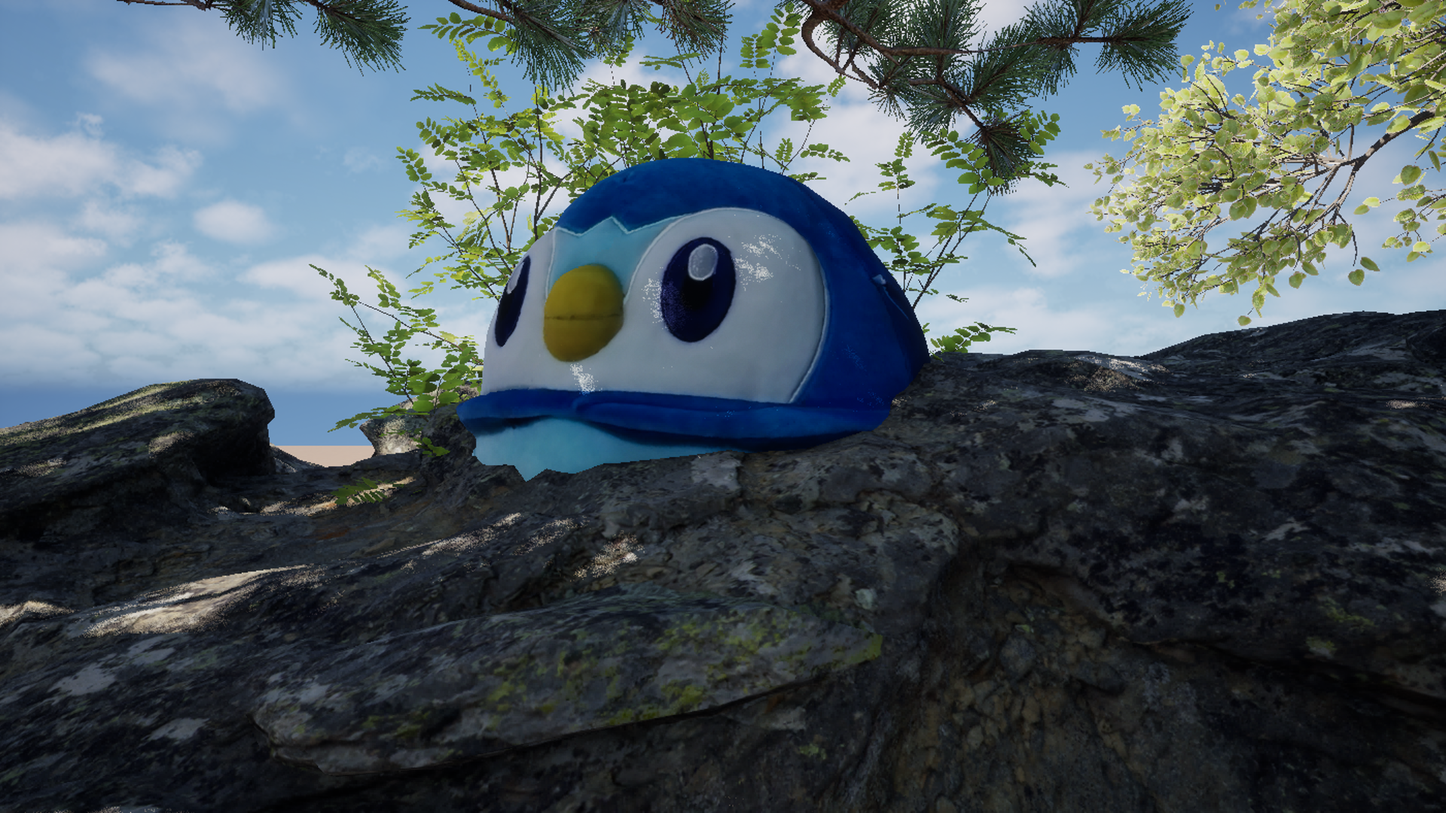Piplup: (162, 0, 1308, 813)
